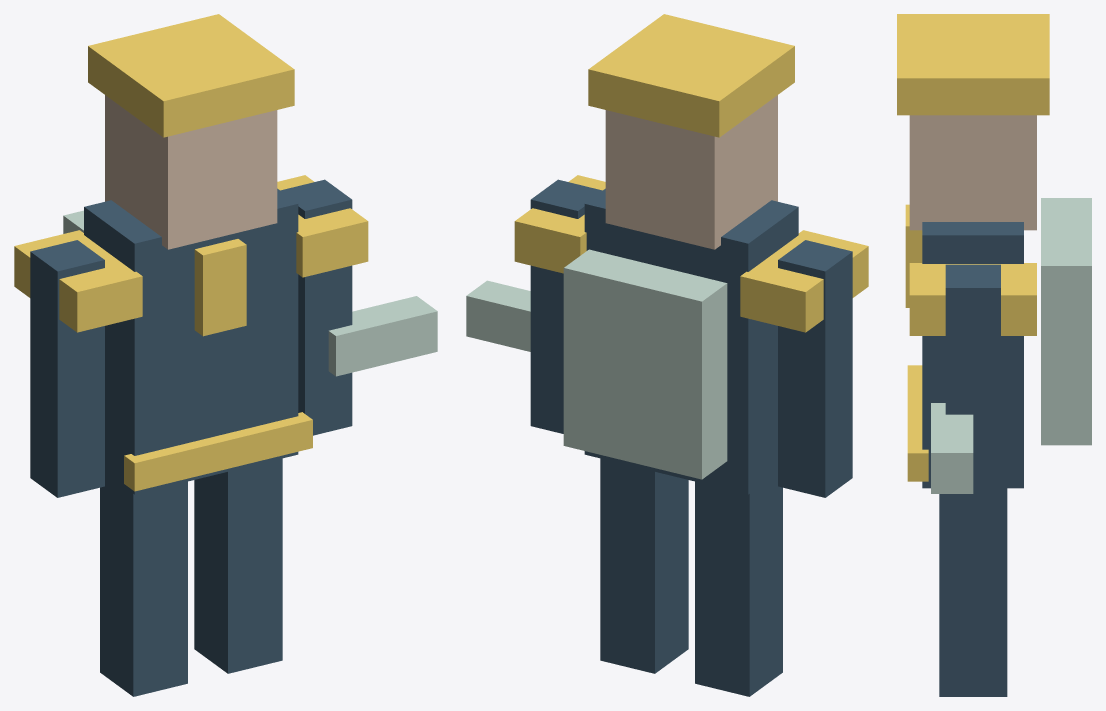
File: 12_ren_chromabell_warden_of_power.glb
3 renders of one model, left to right at view 1: azimuth 30°, elevation 25°; view 2: azimuth 150°, elevation 25°; view 3: azimuth 270°, elevation 25°, orthographic.
Parts seen in each view (by area): view 1: Ren Chromabell, Warden of Power; view 2: Ren Chromabell, Warden of Power; view 3: Ren Chromabell, Warden of Power.
Boxes of the visible parts, box(x1,y1,x2,y2) form: Ren Chromabell, Warden of Power: box(14, 14, 437, 696); Ren Chromabell, Warden of Power: box(466, 14, 868, 696); Ren Chromabell, Warden of Power: box(897, 14, 1091, 696).
Size of the model in its own units: 1.06 by 1.65 by 0.4753.
